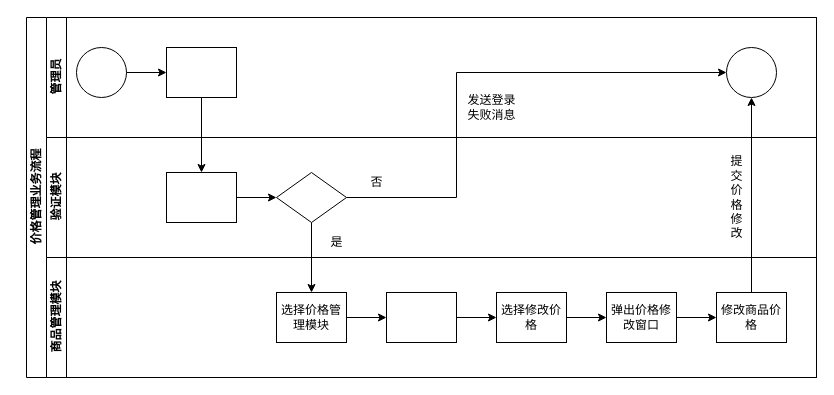
The diagram is 834 pixels wide and 395 high, and some of its shapes have lost their labels. Each missing label, with the centre of its shape:
是否正确: [311,197]
显示价格管理界面: [421,317]
管理员输入账号密码: [201,72]
验证账号密码: [201,197]
